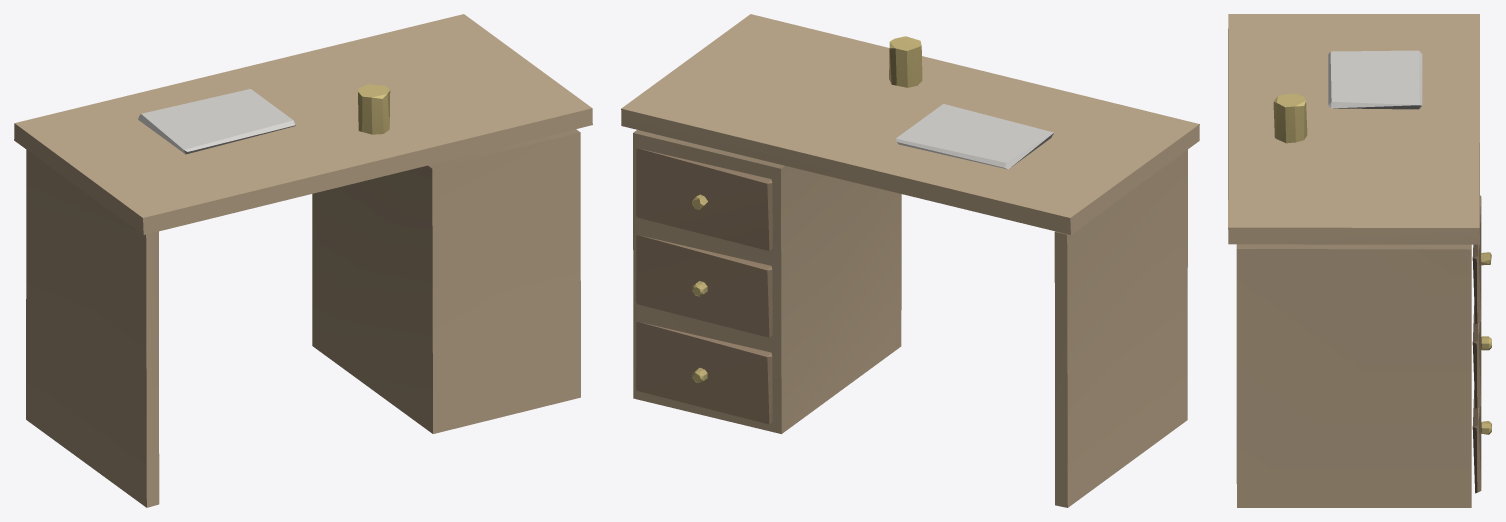
The model's file is furn_desk__oak_low.glb.
The picture shows the model from 3 angles, left to right: view 1: azimuth 30°, elevation 25°; view 2: azimuth 150°, elevation 25°; view 3: azimuth 270°, elevation 25°; orthographic projection. The views are drawn at different scales.
Bounding box in the file's own units: 1.19 × 0.8508 × 0.6222.
